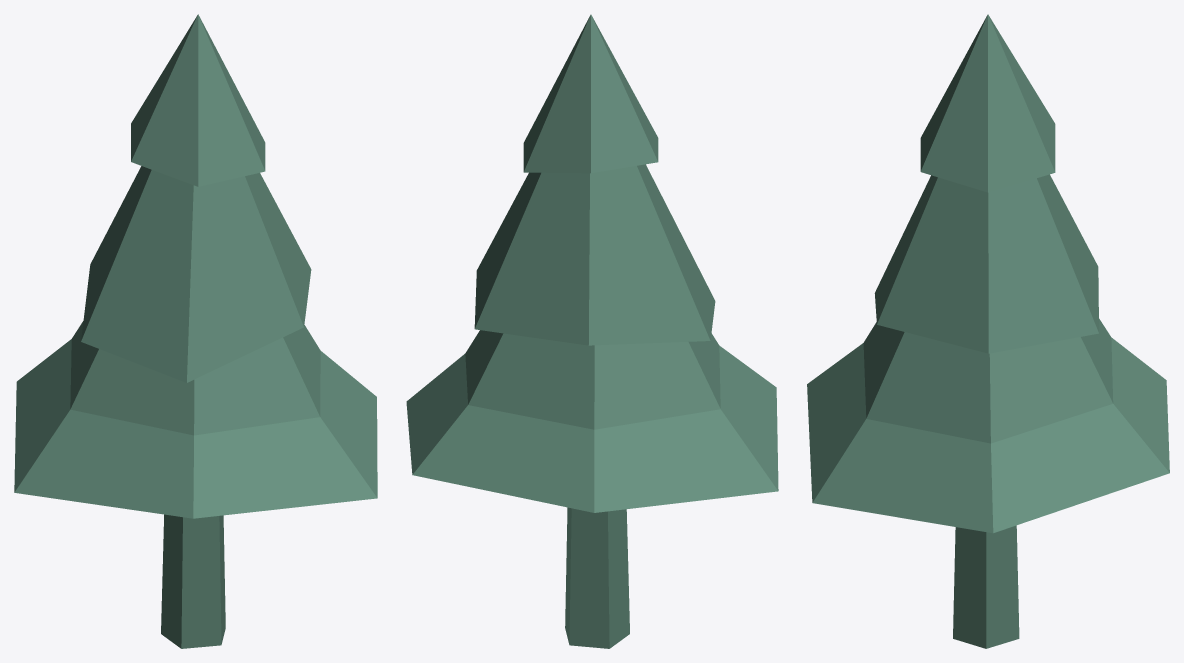
Rendered from tree_triangle.fbx.
3 views of the same model, side by side, from view 1: azimuth 30°, elevation 25°; view 2: azimuth 150°, elevation 25°; view 3: azimuth 270°, elevation 25° (orthographic).
Visible parts, largest first — view 1: leaves2, leaves1, leaves, trunk; view 2: leaves2, leaves1, leaves, trunk; view 3: leaves2, leaves1, leaves, trunk.
Boxes of the visible parts, x1,y1,x2,y2 form: leaves2: (14, 321, 377, 518); leaves1: (81, 166, 311, 382); leaves: (131, 14, 265, 186); trunk: (161, 514, 225, 648); leaves2: (406, 330, 778, 512); leaves1: (474, 164, 715, 345); leaves: (523, 14, 658, 173); trunk: (565, 507, 629, 648); leaves2: (807, 318, 1169, 533); leaves1: (874, 174, 1098, 353); leaves: (920, 14, 1055, 192); trunk: (953, 525, 1019, 648).
Size of the model in its own units: 546 by 881 by 466.
